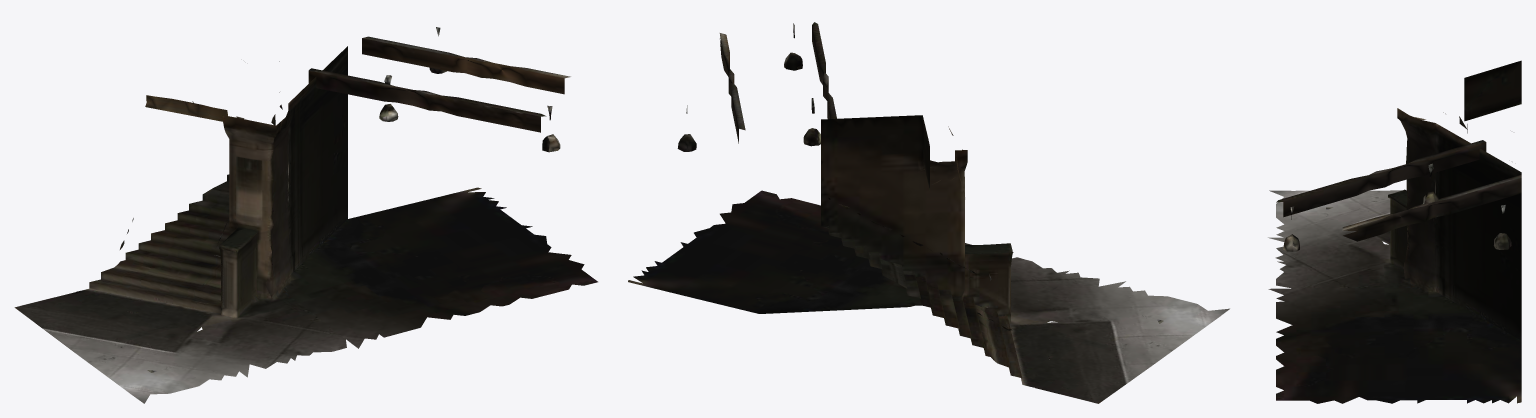
The picture shows the model from 3 angles, left to right: view 1: azimuth 30°, elevation 25°; view 2: azimuth 150°, elevation 25°; view 3: azimuth 270°, elevation 25°; orthographic projection. The views are drawn at different scales.
Bounding box in the file's own units: 12.99 × 5.74 × 6.52.
1 material, 1 textured.
